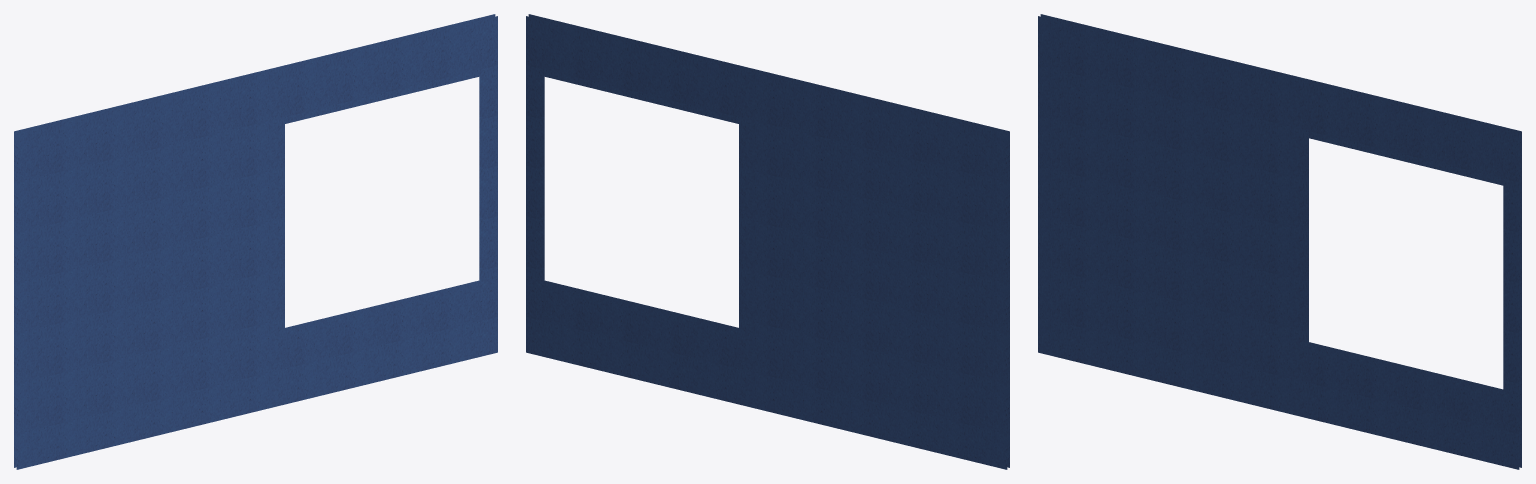
File: floor_1.obj
3 views of the same model, side by side, from view 1: azimuth 30°, elevation 25°; view 2: azimuth 150°, elevation 25°; view 3: azimuth 330°, elevation 25° (orthographic).
Parts seen in each view (by area): view 1: floor_1; view 2: floor_1; view 3: floor_1.
Part boxes in pixels (bbox=[...]): floor_1: bbox=[14, 14, 497, 469]; floor_1: bbox=[526, 14, 1009, 469]; floor_1: bbox=[1038, 14, 1521, 469].
Size of the model in its own units: 10 by 6.68 by 0.1.
